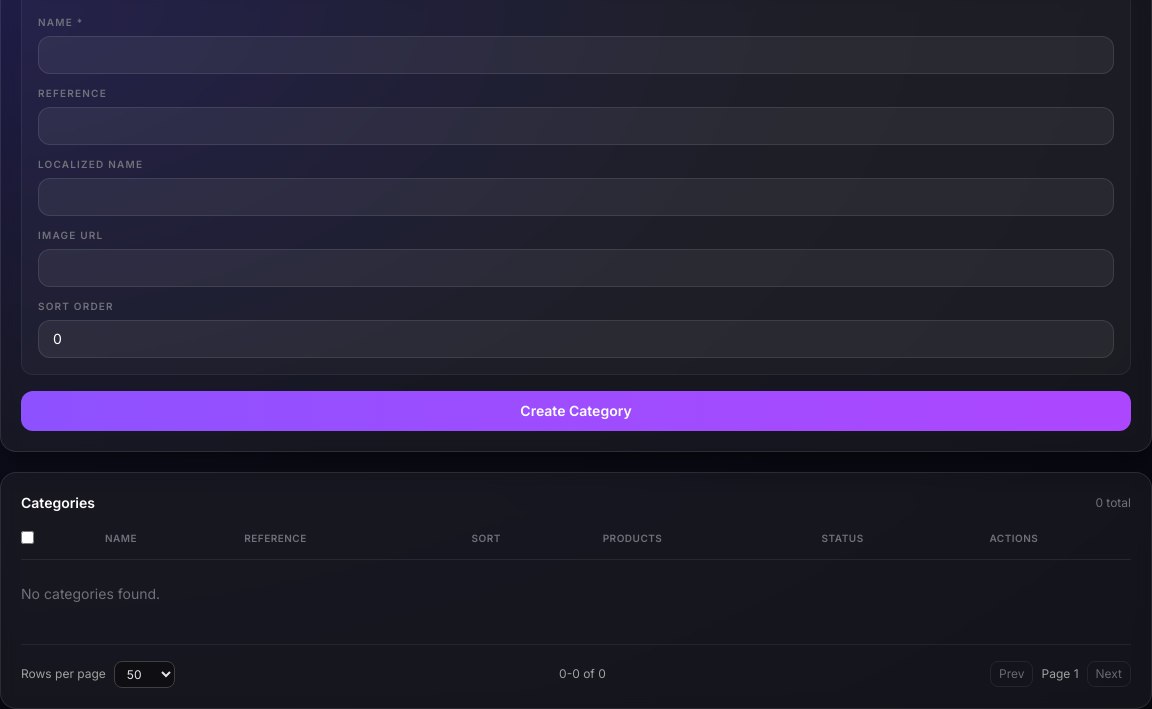
Test: MenuCategoriesPage — create form › shows error when name is empty on save
This screenshot has width=1152, height=709.
(page scrolled)
Click the button "Create Category": click(576, 410) [21,390,1131,430]
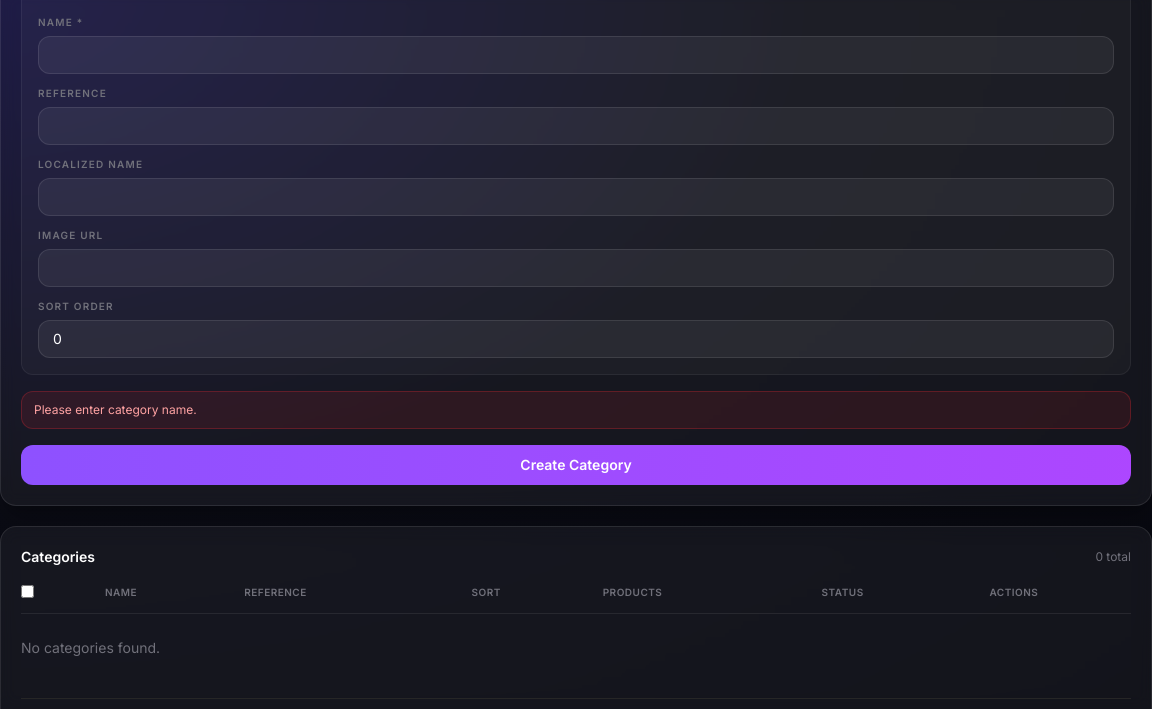
Check: the text "Please enter category name." is shown, box [21,390,1131,428]
